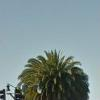Palm tree: (15, 39, 91, 100)
